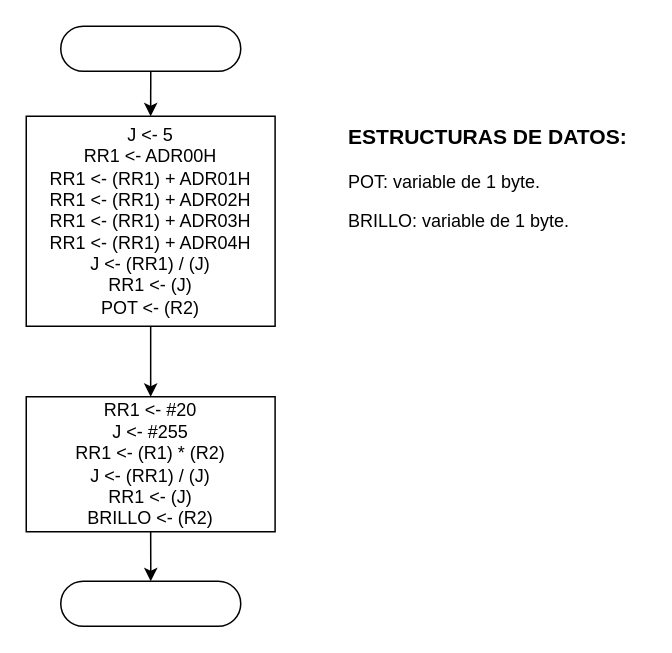
Image size: 672x653. Some labels were removed from this diagram. The centre of each missing label's shape, as x and y in pixels:
ATD_ISR: [150,48]
REGRESA: [150,603]
